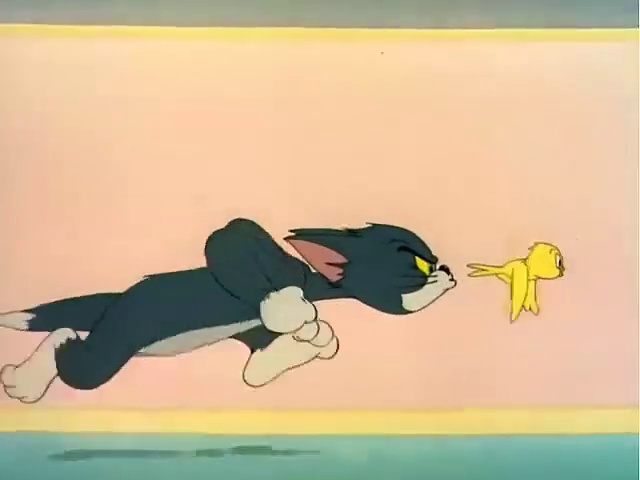tom: (1, 150, 466, 448), (2, 157, 449, 466)
